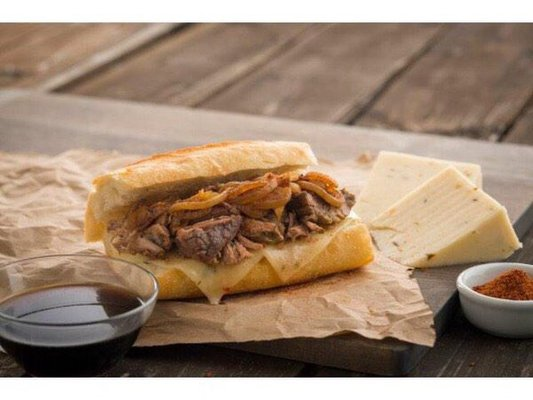soup: (352, 151, 523, 270)
sushi: (0, 251, 159, 374), (456, 261, 533, 339)
